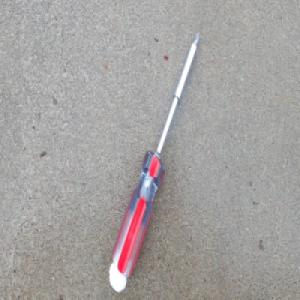Screwdriver: (108, 29, 201, 294)
